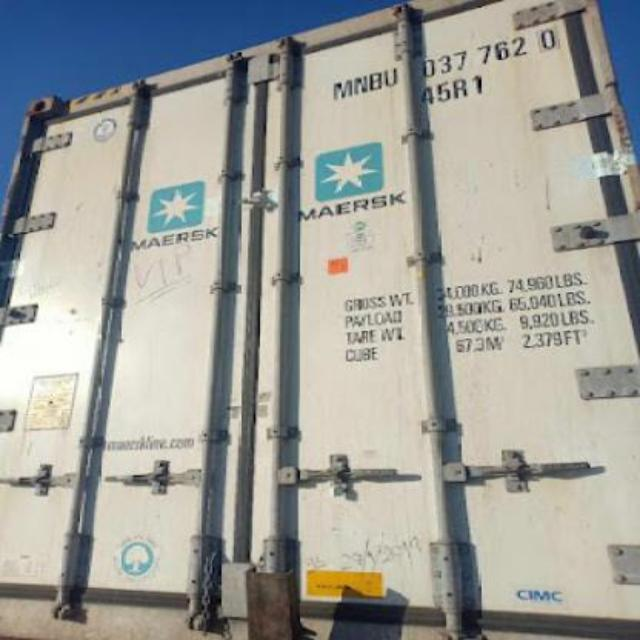0: (540, 27, 560, 53), (418, 52, 434, 82)
2: (510, 34, 528, 60)
3: (438, 52, 452, 74)
6: (496, 37, 512, 63)
7: (474, 42, 494, 66), (450, 48, 468, 68)
B: (368, 66, 382, 90)
M: (328, 78, 352, 98)
N: (352, 74, 368, 98)
U: (384, 66, 400, 90)
